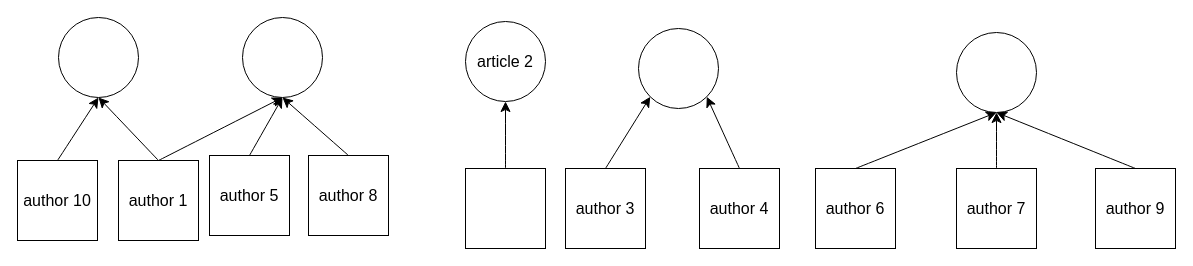
Image size: 1193x266. Some labels were removed from this diagram. The centre of each missing label's shape, as x and y in pixels:
article 1: point 282,57
article 3: point 678,68
article 4: point 996,72
article 9: point 98,57
author 2: point 505,208
